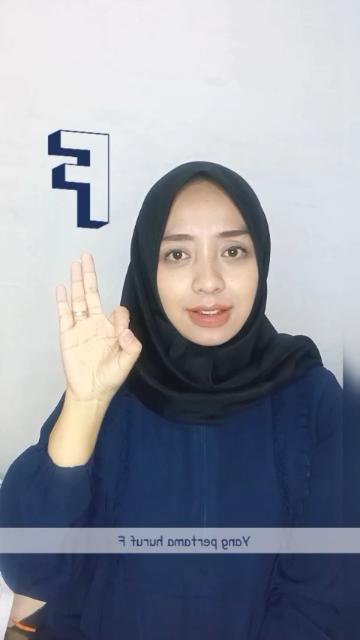F: (50, 250, 140, 398)
